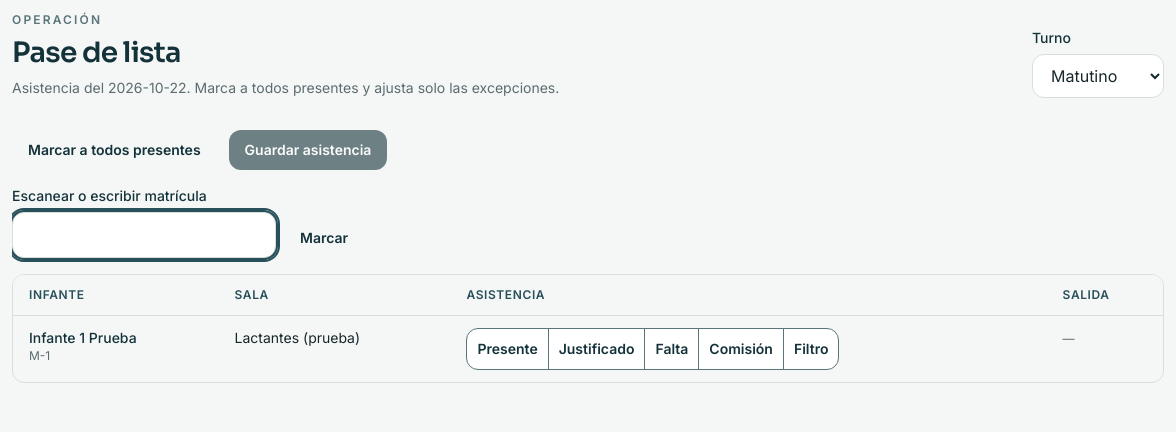
Scenario: escaneo en el pase de lista (RF-13) › una matrícula que no está en el turno avisa y no marca nada
The width and height of the screenshot is (1176, 432).
Type "ZZZ-9" into the field labelled "Escanear o escribir matrícula". click: coordinates (144, 235)
box: x1=12 y1=212 x2=276 y2=258
Then press Enter
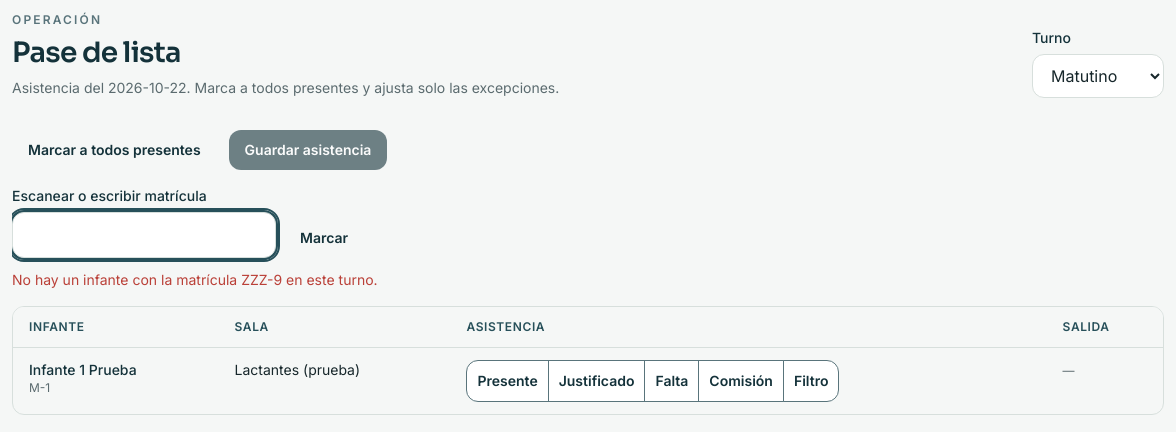
Expected: the button "Guardar asistencia" is disabled, x1=229 y1=130 x2=387 y2=170
Expected: the message reads "No hay un infante con la matrícula ZZZ-9 en este turno.", x1=12 y1=271 x2=378 y2=288
